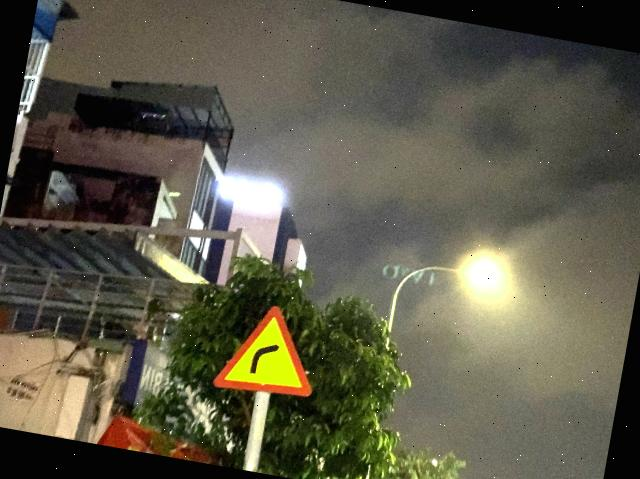cho-ngoat-nguy-hiem-ben-trai: (212, 298, 325, 404)
